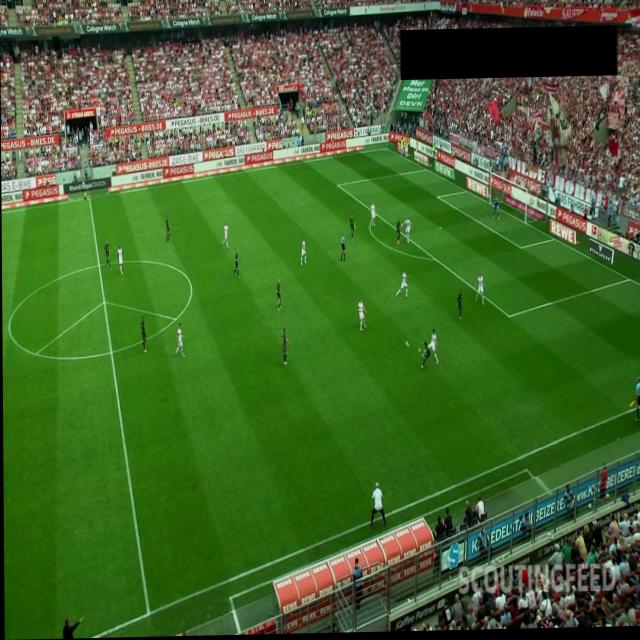goalkeeper: (491, 198, 499, 223)
player: (425, 330, 439, 368), (174, 324, 186, 358), (280, 328, 290, 367), (395, 272, 408, 300), (475, 275, 485, 307), (357, 300, 367, 332), (417, 344, 429, 370), (139, 315, 147, 354), (231, 249, 240, 279), (103, 240, 112, 270), (346, 215, 355, 243), (402, 220, 411, 246), (221, 222, 229, 250), (276, 279, 282, 313), (456, 291, 462, 321), (117, 245, 123, 275), (395, 219, 401, 247), (300, 238, 306, 266), (165, 217, 171, 243), (370, 203, 376, 228)
referee: (629, 379, 640, 425), (340, 233, 346, 263), (81, 179, 87, 201)
